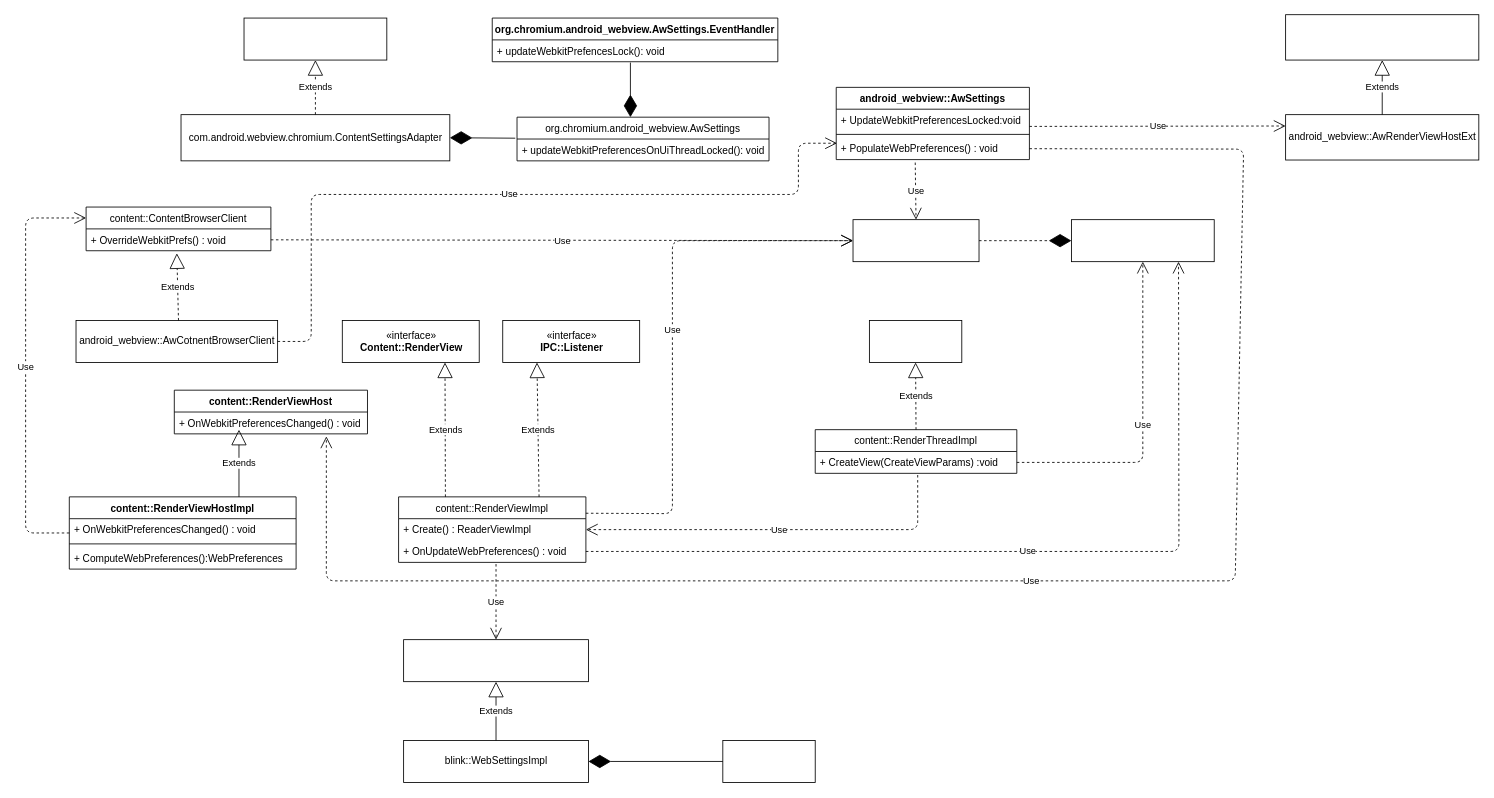
The diagram is 1494 pixels wide and 798 high, and some of its shapes have lost their labels. Here are the shapes that lost their labels. From the top down, the centre of each, then its label:
At (315,38): "android.webkit.WebSettings".
At (1382,37): "content::WebContentObserver".
At (915,240): "content::WebPreferences".
At (1142,240): "content::CreateViewParams".
At (915,341): "mojom::Render".
At (495,660): "blink::WebSettings".
At (768,761): "blink::Settings".
